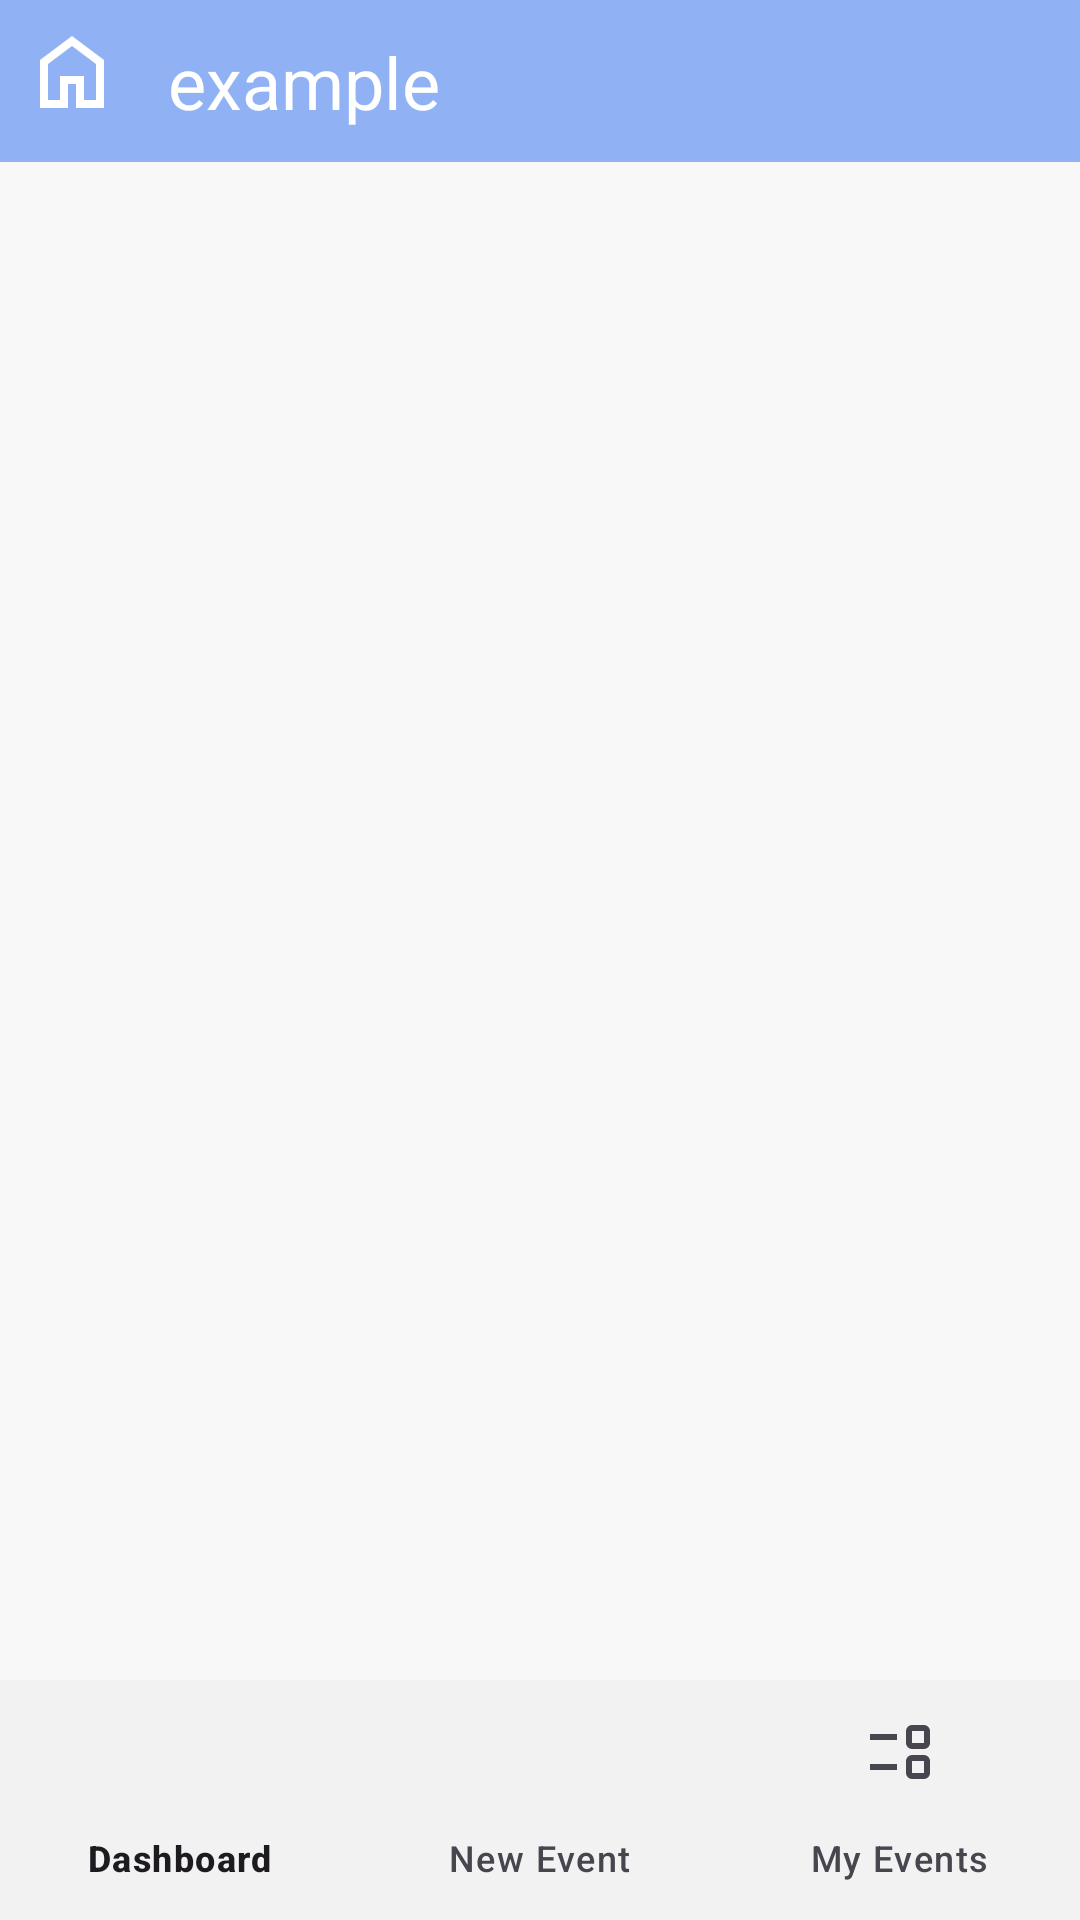

Screen size 1080 x 1920. Icon name, then its box in pixels as (x1, y1, x2, y2):
home: (40, 36, 104, 108)
